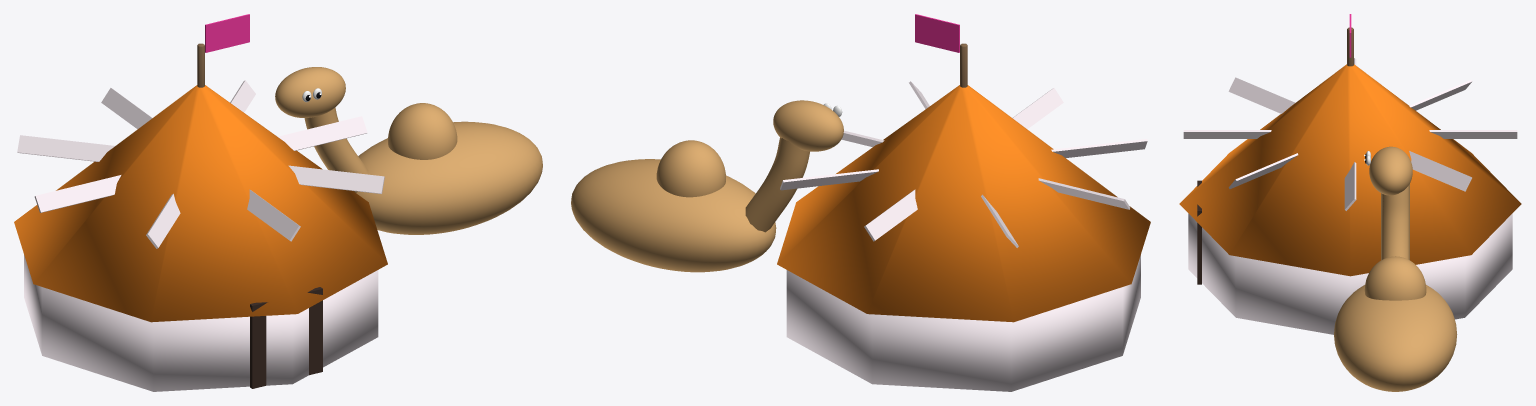
Rendered from tenda.glb.
The picture shows the model from 3 angles, left to right: view 1: azimuth 30°, elevation 25°; view 2: azimuth 150°, elevation 25°; view 3: azimuth 270°, elevation 25°; orthographic projection. The views are drawn at different scales.
Visible parts, largest first — view 1: Cone, Cylinder, Sphere, Cube.001, Sphere.001, Cube.002, Sphere.002, Cube.004, Cube, tube, Cube.005, Cube.003; view 2: Cone, Cylinder, Sphere, Sphere.001, Sphere.002, tube, Cube, Cube.003, Cube.005, Cube.002; view 3: Cone, Cylinder, Sphere, Sphere.001, Cube.003, tube, Sphere.002, Cube, Cube.001, Cube.002, Cube.004.
Part boxes in pixels (bbox=[...]): Cone: bbox=[14, 85, 387, 322]; Cylinder: bbox=[24, 255, 378, 391]; Sphere: bbox=[356, 121, 542, 234]; Cube.001: bbox=[17, 135, 384, 193]; Sphere.001: bbox=[388, 103, 457, 159]; Cube.002: bbox=[34, 116, 367, 212]; Sphere.002: bbox=[275, 67, 345, 117]; Cube.004: bbox=[250, 287, 322, 388]; Cube: bbox=[101, 88, 300, 241]; tube: bbox=[304, 107, 368, 192]; Cube.005: bbox=[205, 14, 249, 52]; Cube.003: bbox=[146, 80, 255, 248]; Cone: bbox=[777, 85, 1150, 322]; Cylinder: bbox=[786, 255, 1140, 391]; Sphere: bbox=[571, 159, 776, 272]; Sphere.001: bbox=[656, 140, 725, 197]; Sphere.002: bbox=[773, 100, 843, 151]; tube: bbox=[745, 137, 810, 232]; Cube: bbox=[864, 88, 1063, 241]; Cube.003: bbox=[780, 139, 1147, 190]; Cube.005: bbox=[915, 14, 959, 52]; Cube.002: bbox=[841, 130, 1130, 209]; Cone: bbox=[1179, 64, 1521, 276]; Cylinder: bbox=[1188, 213, 1512, 334]; Sphere: bbox=[1334, 285, 1457, 391]; Sphere.001: bbox=[1364, 256, 1426, 300]; Cube.003: bbox=[1228, 77, 1471, 191]; tube: bbox=[1381, 184, 1409, 260]; Sphere.002: bbox=[1369, 146, 1412, 195]; Cube: bbox=[1183, 130, 1517, 138]; Cube.001: bbox=[1228, 80, 1472, 188]; Cube.002: bbox=[1344, 58, 1356, 210]; Cube.004: bbox=[1197, 180, 1201, 284].
Bounding box in the file's own units: 11.99 × 6.3 × 7.6.
